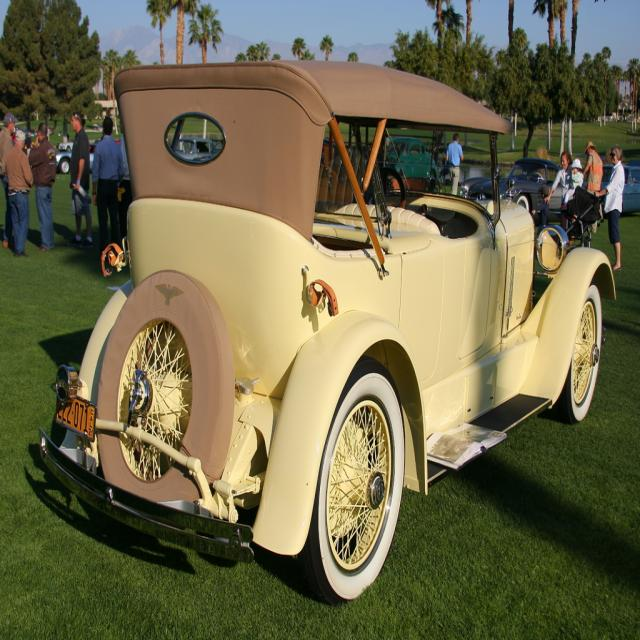car: (35, 51, 620, 604)
